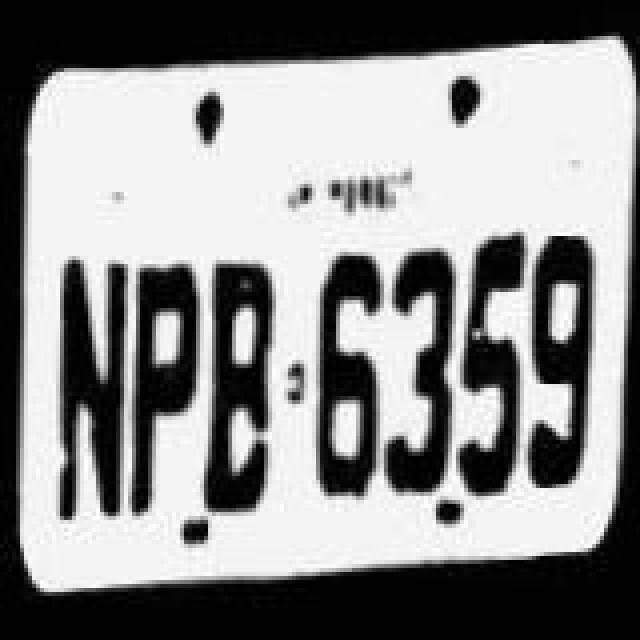3: (384, 236, 460, 500)
5: (458, 210, 530, 498)
6: (310, 246, 390, 510)
9: (528, 218, 604, 494)
B: (198, 252, 290, 524)
N: (52, 248, 132, 536)
P: (124, 252, 204, 520)
